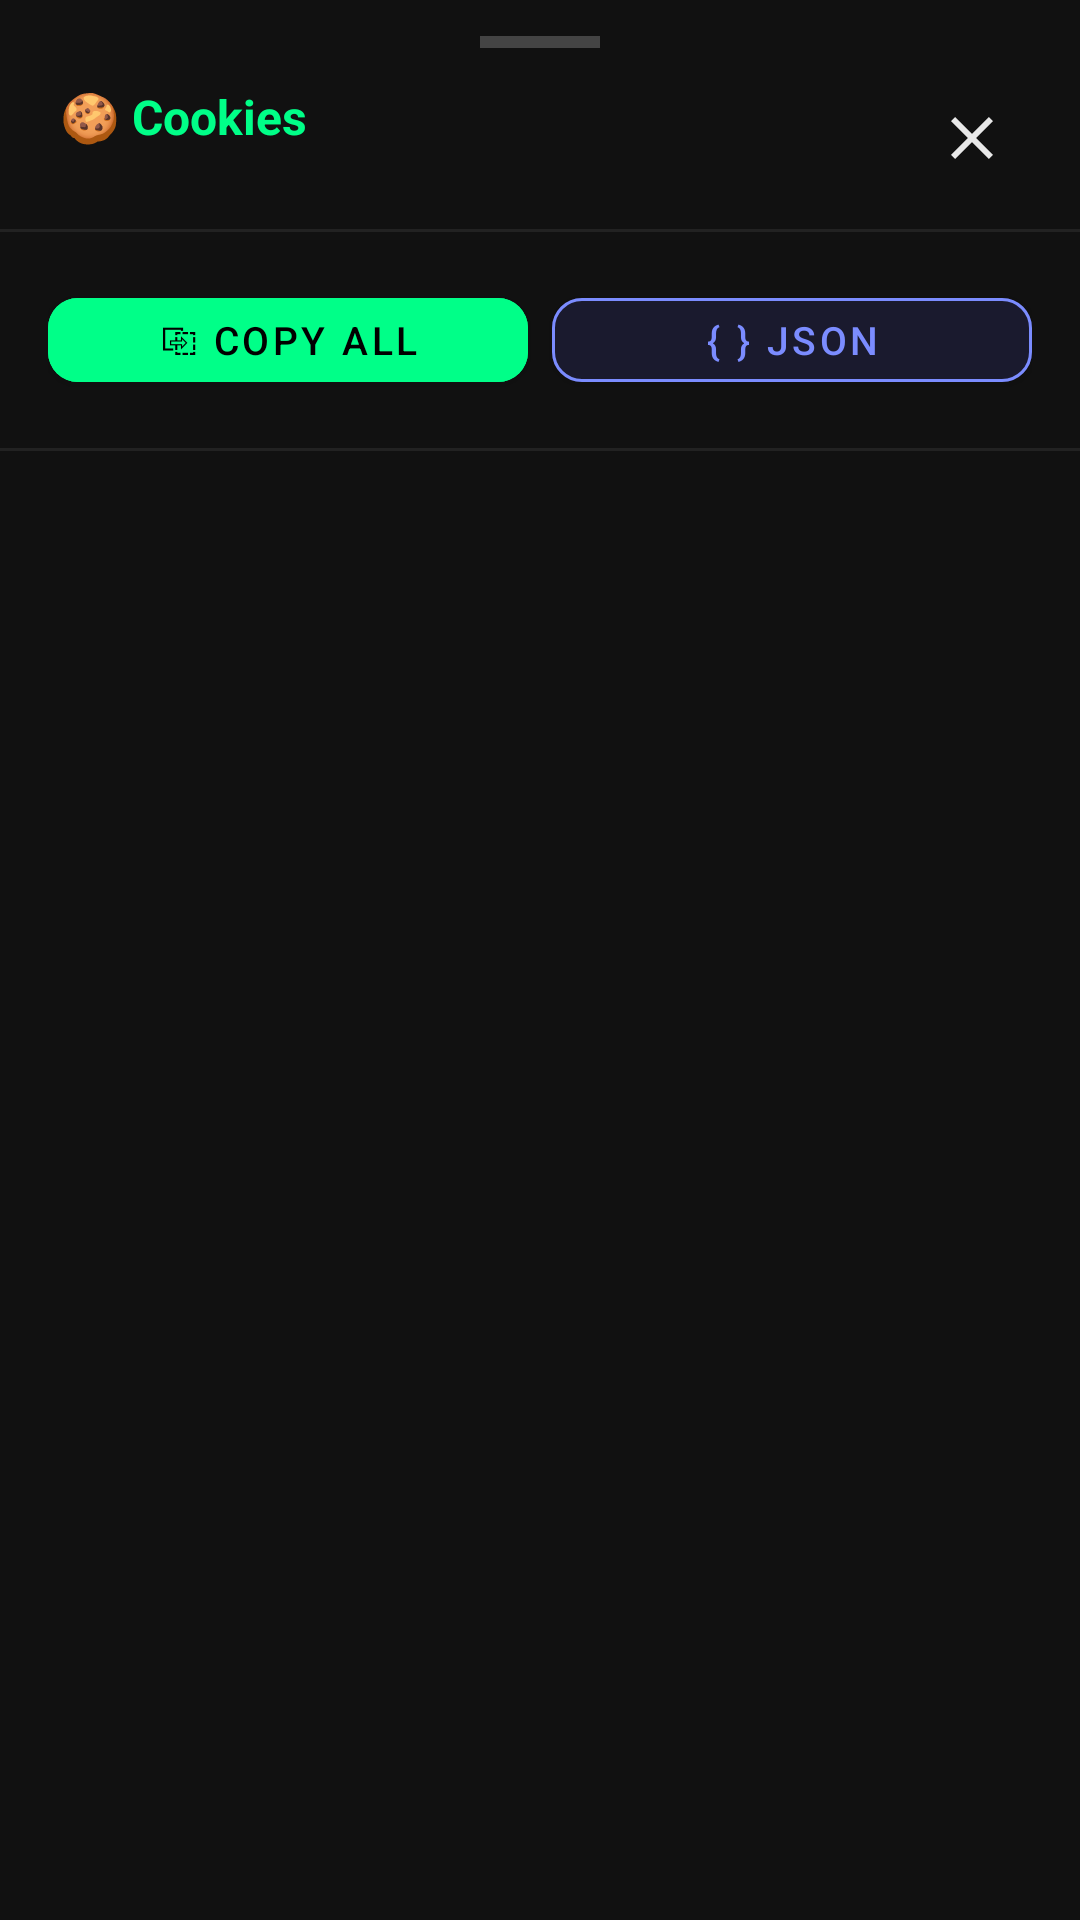

Screen size 1080×1920. Icon name, then its box in pixels as (x1, y1, x2, y2):
Close: (951, 117, 993, 159)
